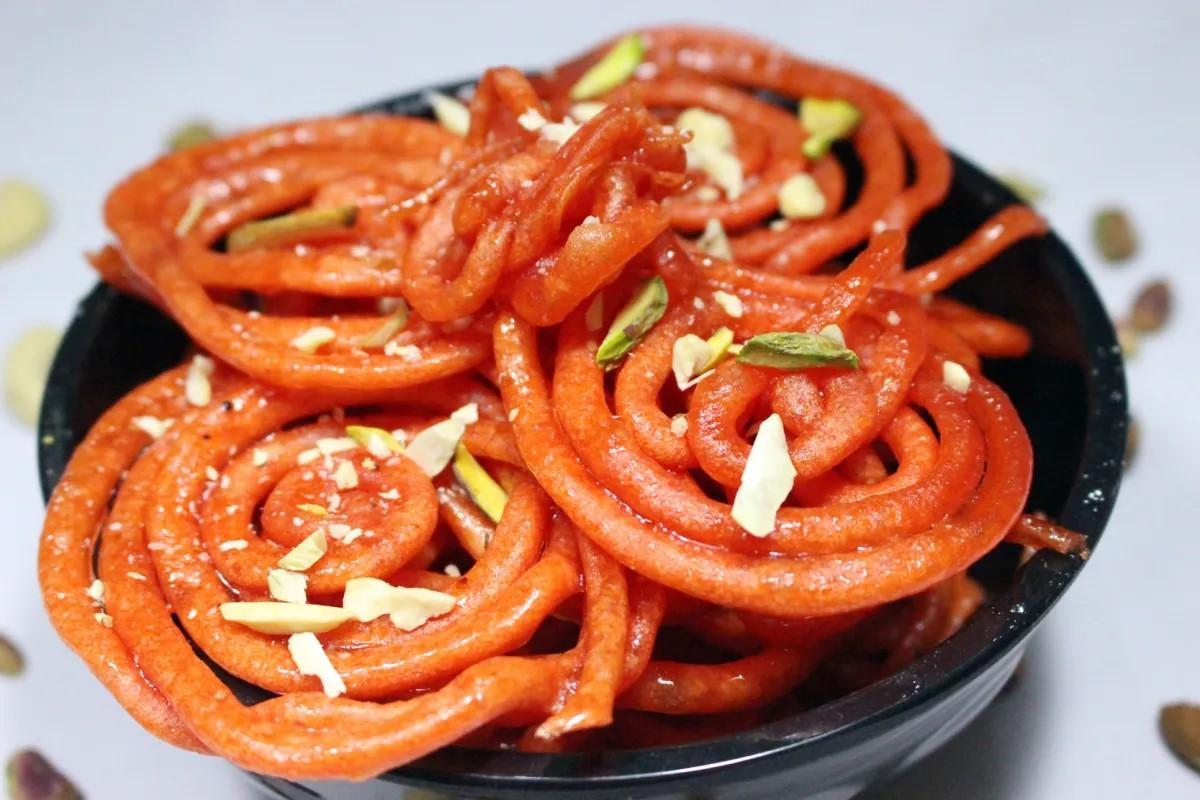Jalebi: (34, 22, 1083, 786)
